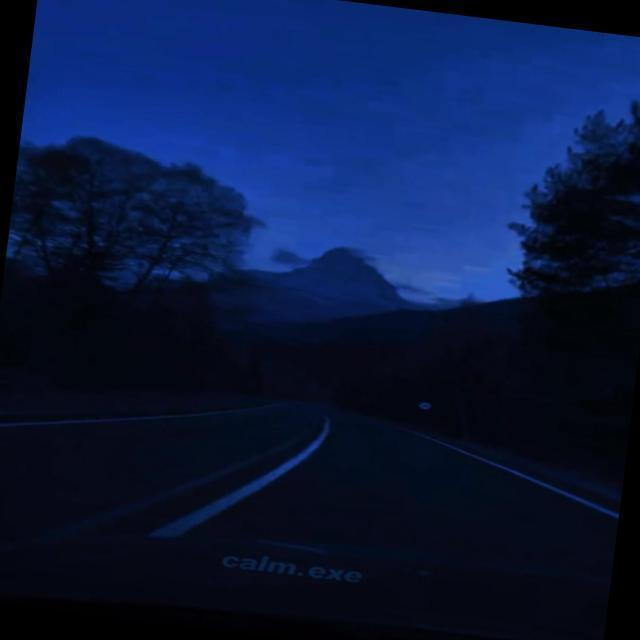off: (162, 16, 518, 332)
